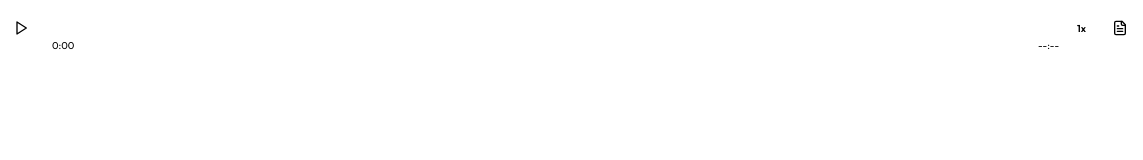
Test: AudioMessagePlayer - Playback Speed Controls › cycles from 1x to 1.25x on first click
Click the button titled "Velocidade" at (1082, 29), box [1071,17,1092,41]
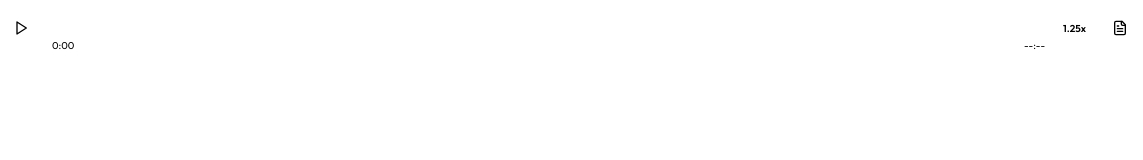
Check: the button titled "Velocidade" reads "1.25x", box [1057,17,1092,41]
